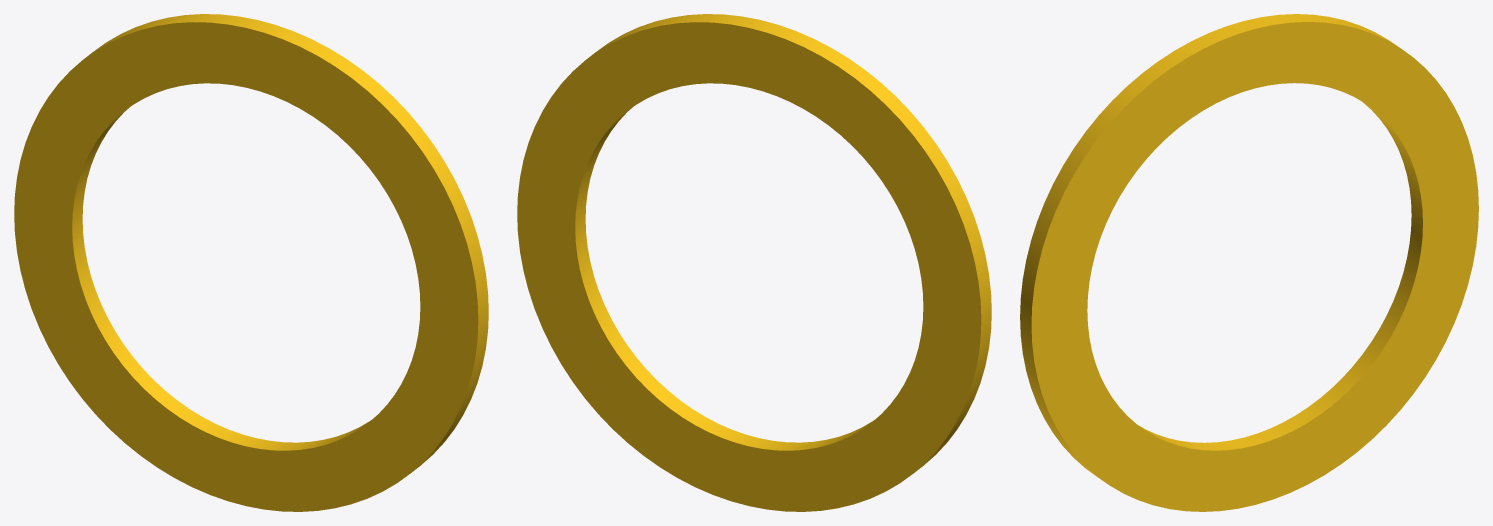
The model's file is cursor.fbx.
3 views of the same model, side by side, from view 1: azimuth 30°, elevation 25°; view 2: azimuth 210°, elevation 25°; view 3: azimuth 270°, elevation 25° (orthographic).
Visible parts, largest first — view 1: root; view 2: root; view 3: root.
Boxes of the visible parts, left/top/right/bottom form: root: left=14, top=14, right=488, bottom=511; root: left=517, top=14, right=991, bottom=511; root: left=1020, top=14, right=1478, bottom=511.
Size of the model in its own units: 0.1975 by 0.3531 by 0.3084.
